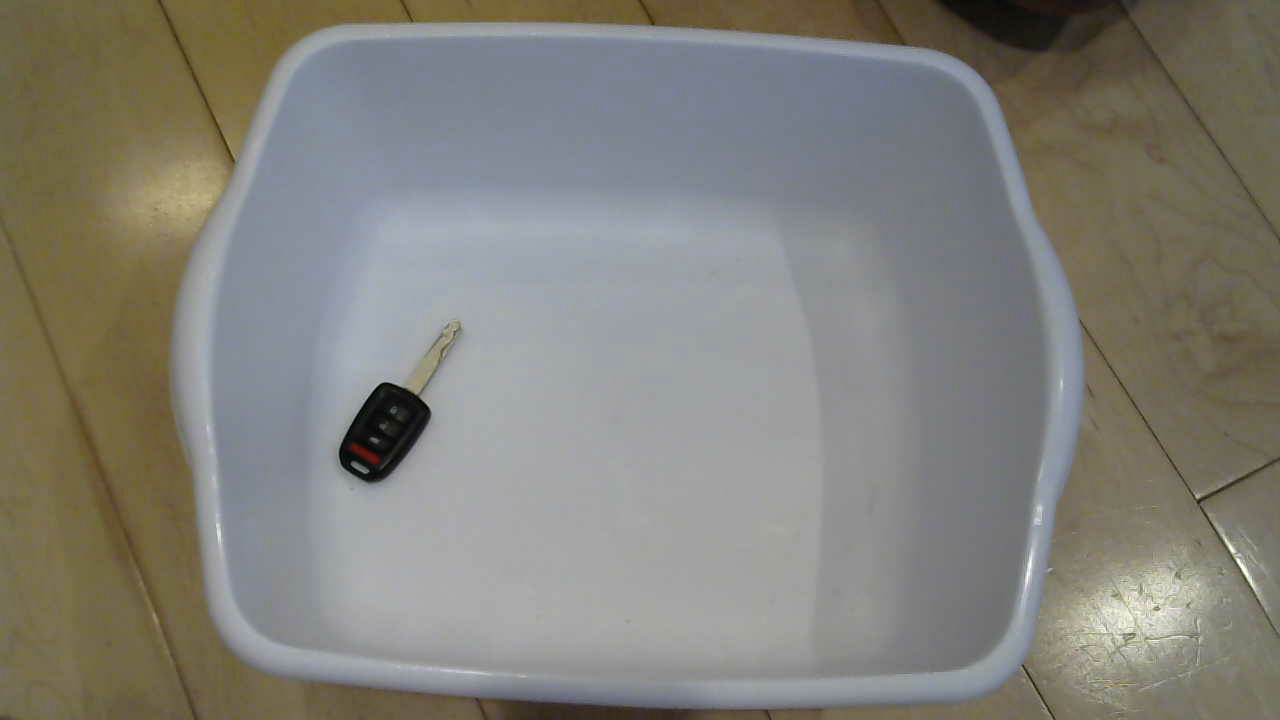key: (323, 318, 477, 492)
